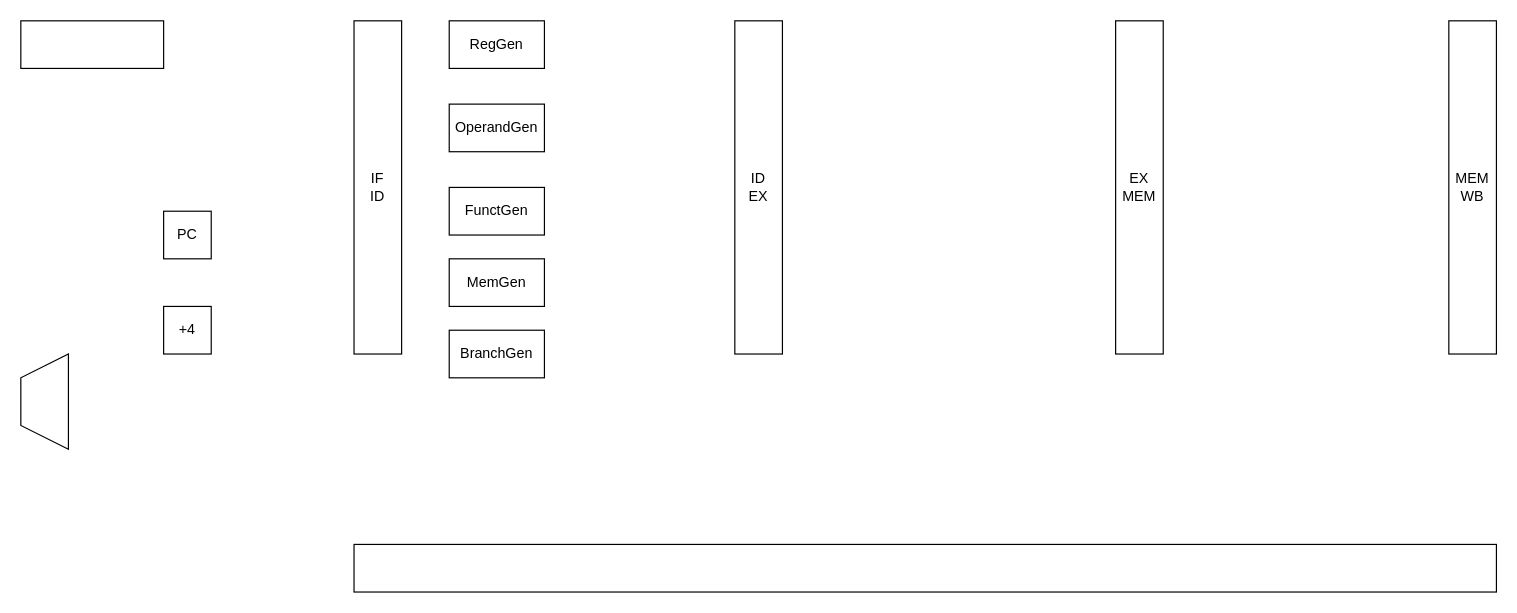
Some shapes in this 1517 by 613 pixel diagram are drawn without their labels. Each missing label, with the centre of its shape:
PipelineController: (924,567)
ROM: (92,44)
